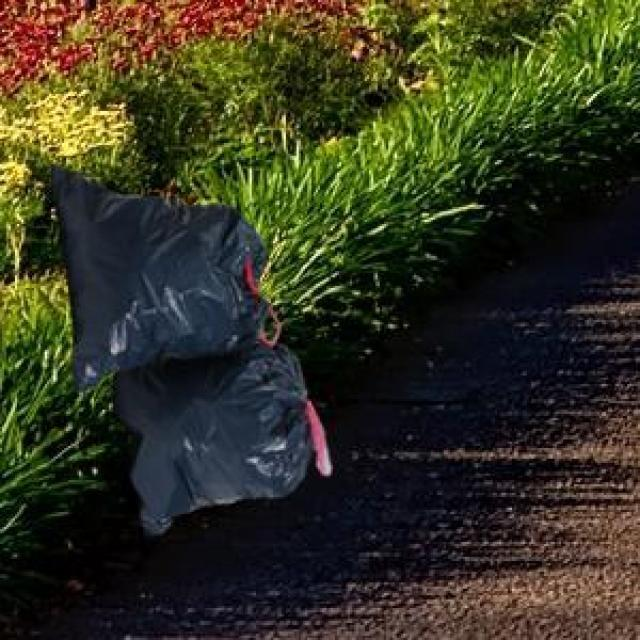miscellaneous trash: (48, 160, 326, 533)
